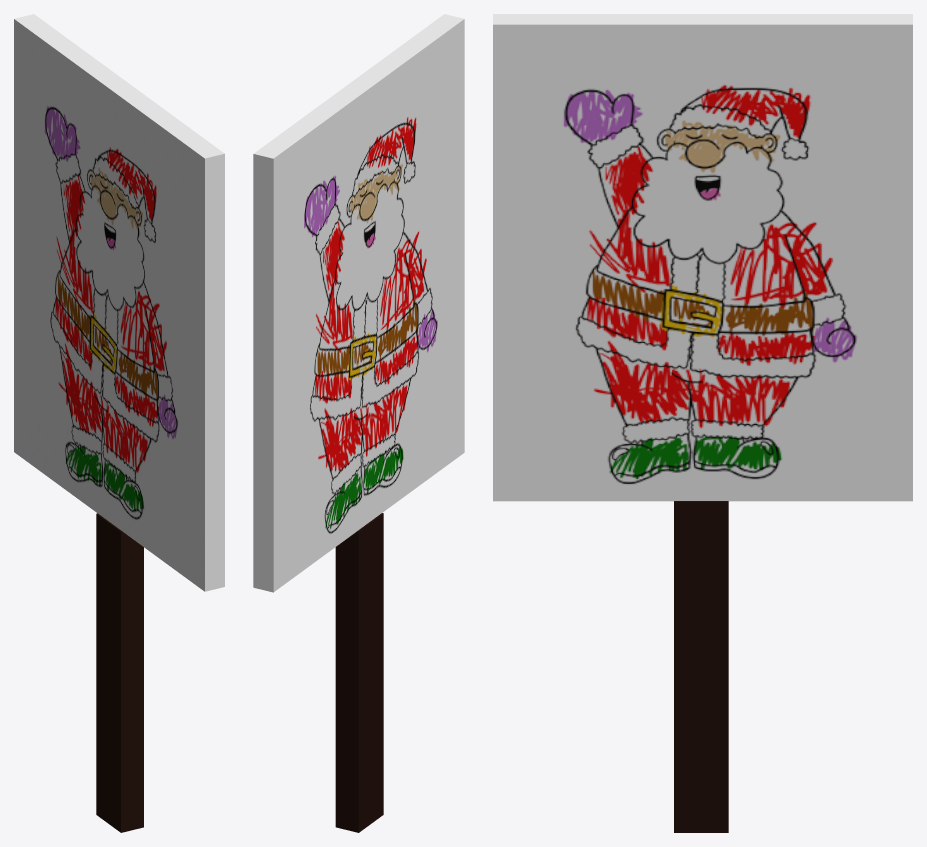
Rendered from foliopalitoT2.FBX.
3 views of the same model, side by side, from view 1: azimuth 30°, elevation 25°; view 2: azimuth 150°, elevation 25°; view 3: azimuth 270°, elevation 25° (orthographic). The views are drawn at different scales.
Visible parts, largest first — view 1: Box002, Box001; view 2: Box002, Box001; view 3: Box002, Box001.
Boxes of the visible parts, left/top/right/bottom form: Box002: left=14, top=14, right=224, bottom=591; Box001: left=96, top=513, right=143, bottom=832; Box002: left=253, top=14, right=464, bottom=592; Box001: left=335, top=513, right=383, bottom=832; Box002: left=493, top=14, right=912, bottom=501; Box001: left=674, top=501, right=728, bottom=832.
Size of the model in its own units: 0.0429 by 1.31 by 0.616.
2 materials, 1 textured.
